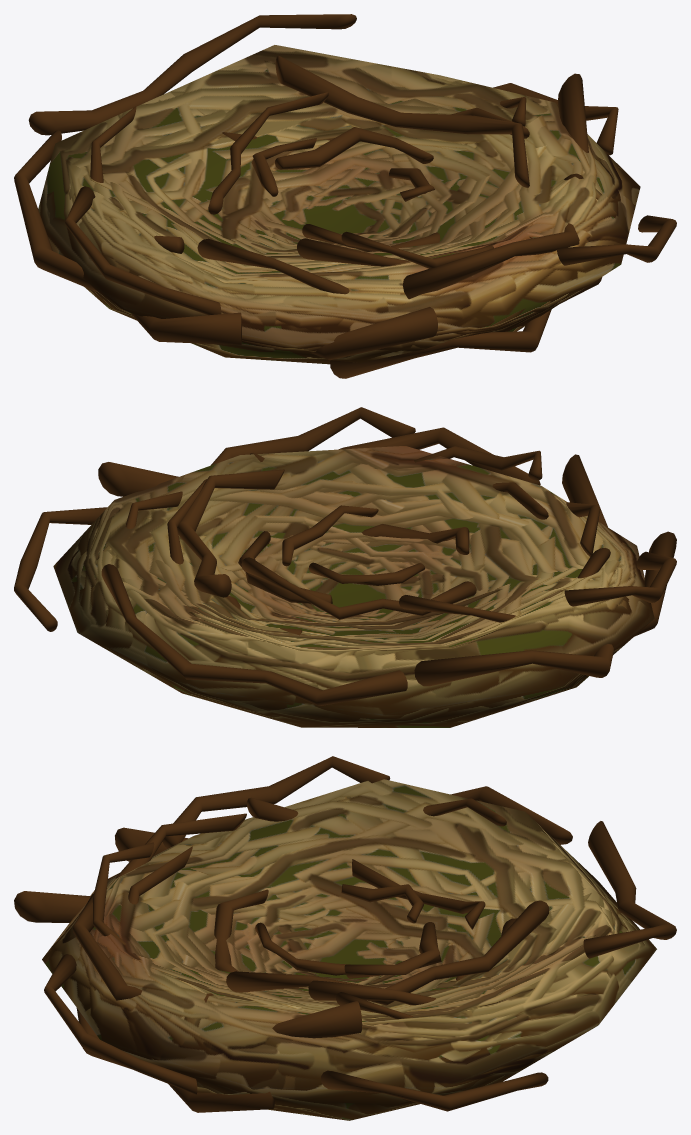
File: nest2.fbx
3 renders of one model, top to bottom at view 1: azimuth 30°, elevation 25°; view 2: azimuth 150°, elevation 25°; view 3: azimuth 270°, elevation 25°, orthographic. The views are drawn at different scales.
Visible parts, largest first — view 1: nest_low, Cylinder.001, Cylinder.003; view 2: nest_low, Cylinder.001, Cylinder.003; view 3: nest_low, Cylinder.001, Cylinder.003.
Boxes of the visible parts, <box> form: nest_low: <box>38,45,640,364</box>; Cylinder.001: <box>14,14,676,378</box>; Cylinder.003: <box>90,56,583,294</box>; nest_low: <box>53,446,654,727</box>; Cylinder.001: <box>14,407,676,705</box>; Cylinder.003: <box>125,446,610,622</box>; nest_low: <box>42,779,656,1120</box>; Cylinder.001: <box>14,756,676,1112</box>; Cylinder.003: <box>92,797,549,1018</box>.
Bounding box in the file's own units: 80.34 × 22.9 × 78.78.
